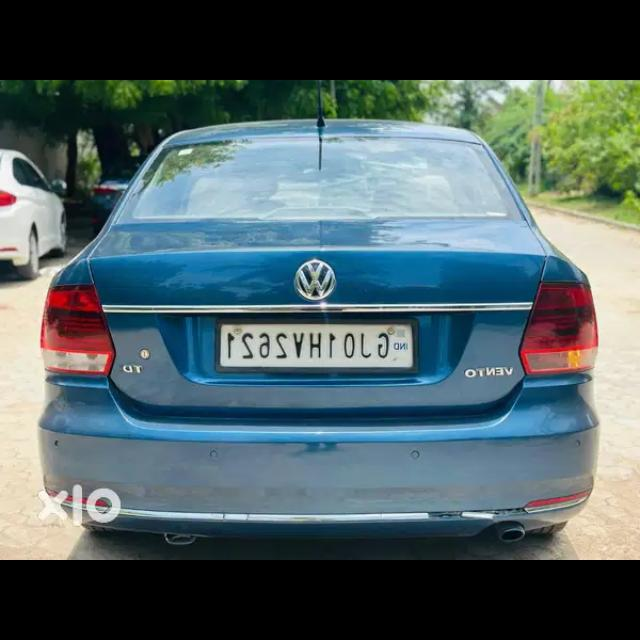number-plate: (222, 324, 412, 367)
vehicles: (43, 121, 601, 548), (1, 146, 67, 276)
